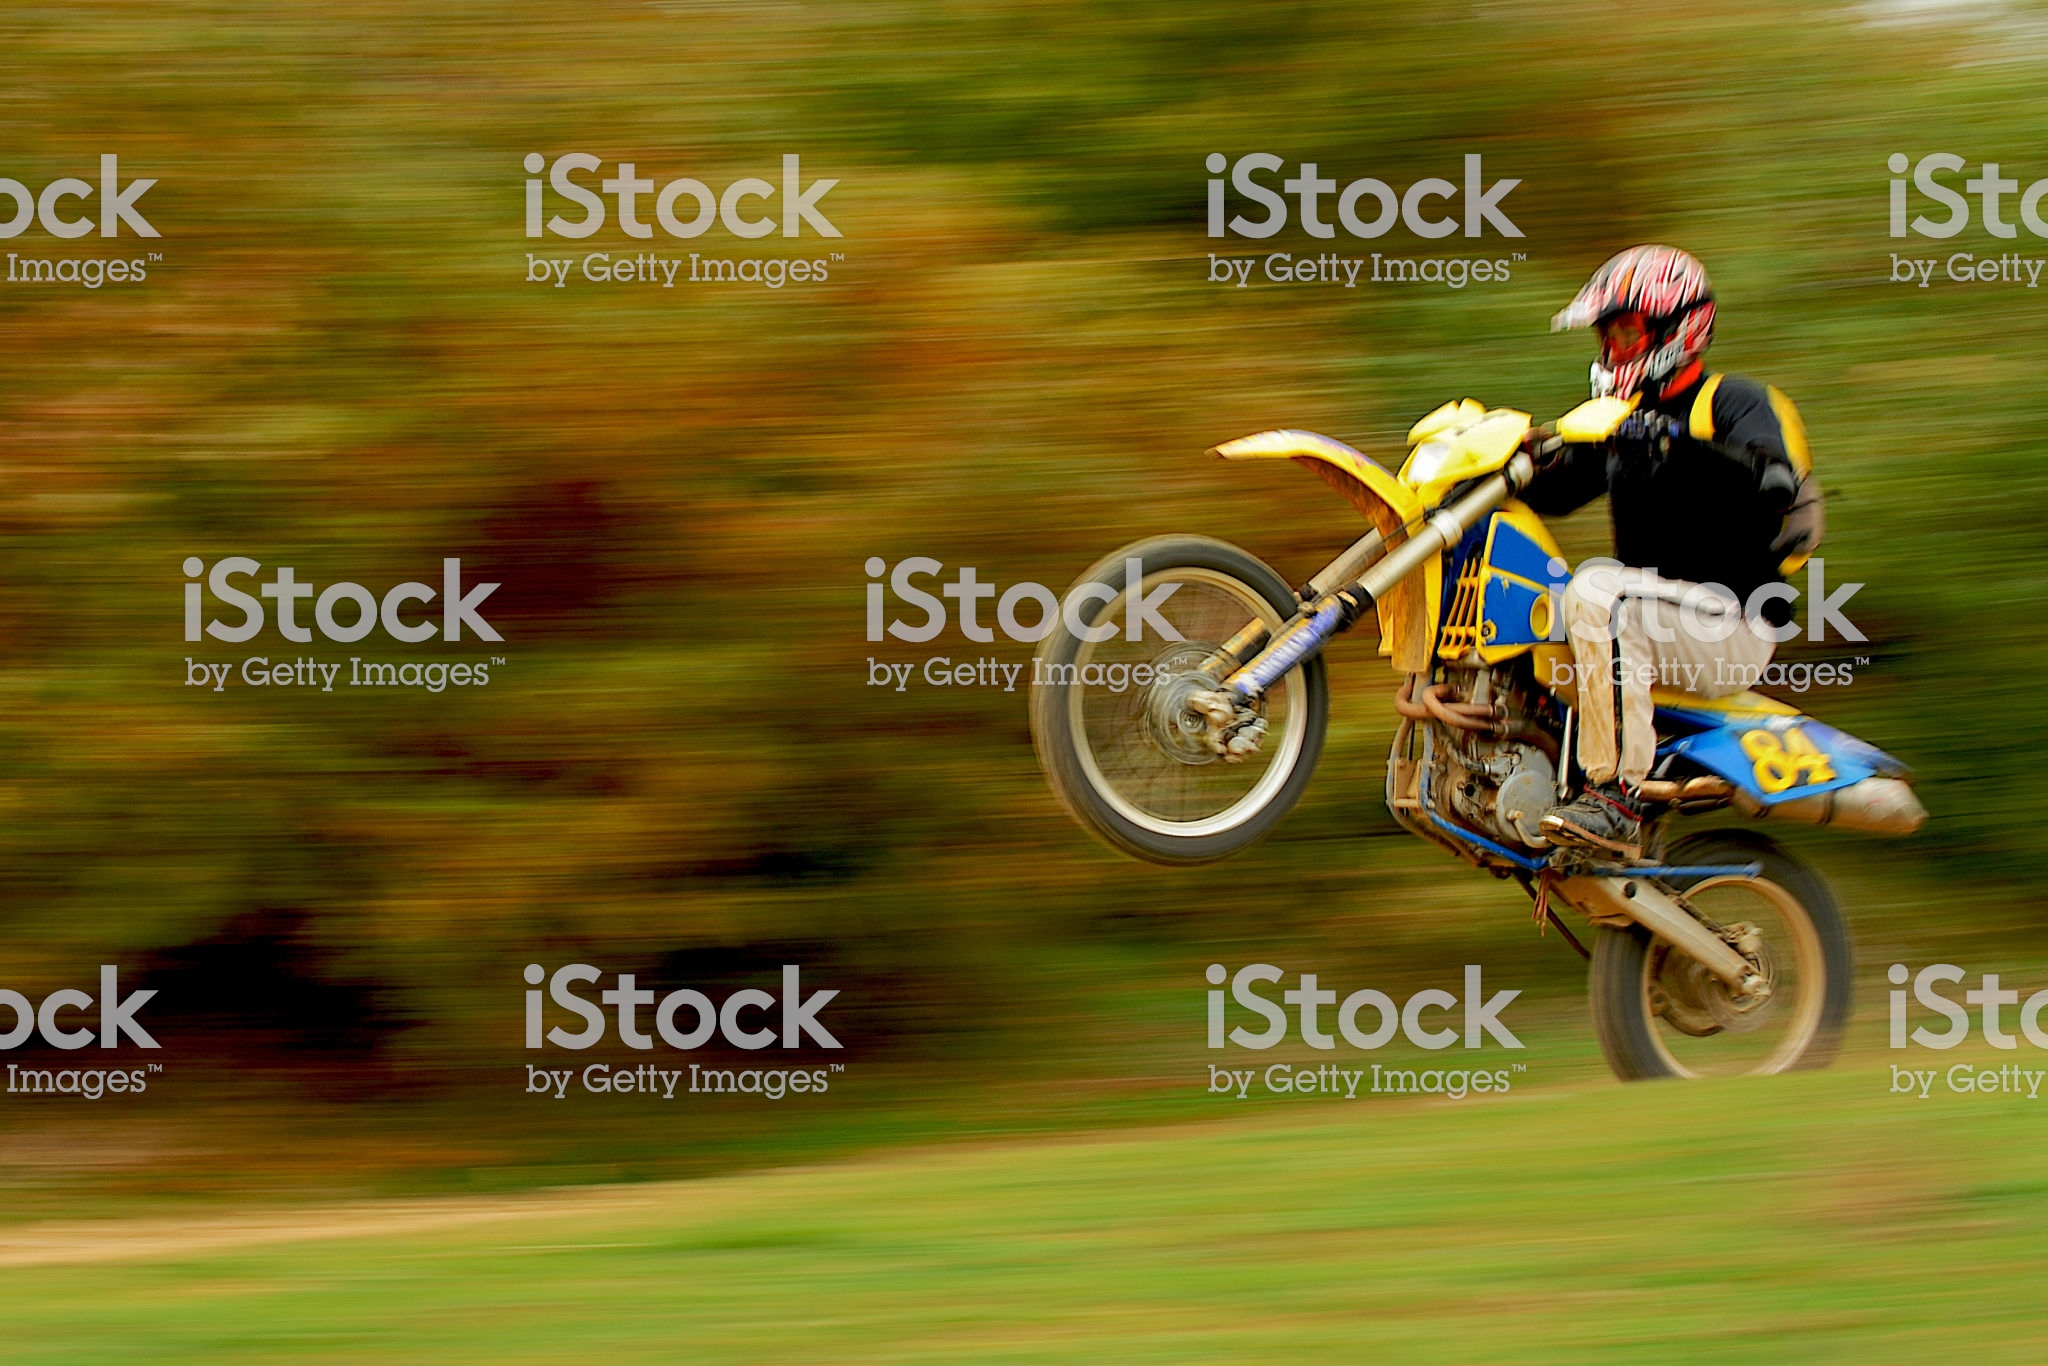helmet: (1565, 245, 1749, 409)
